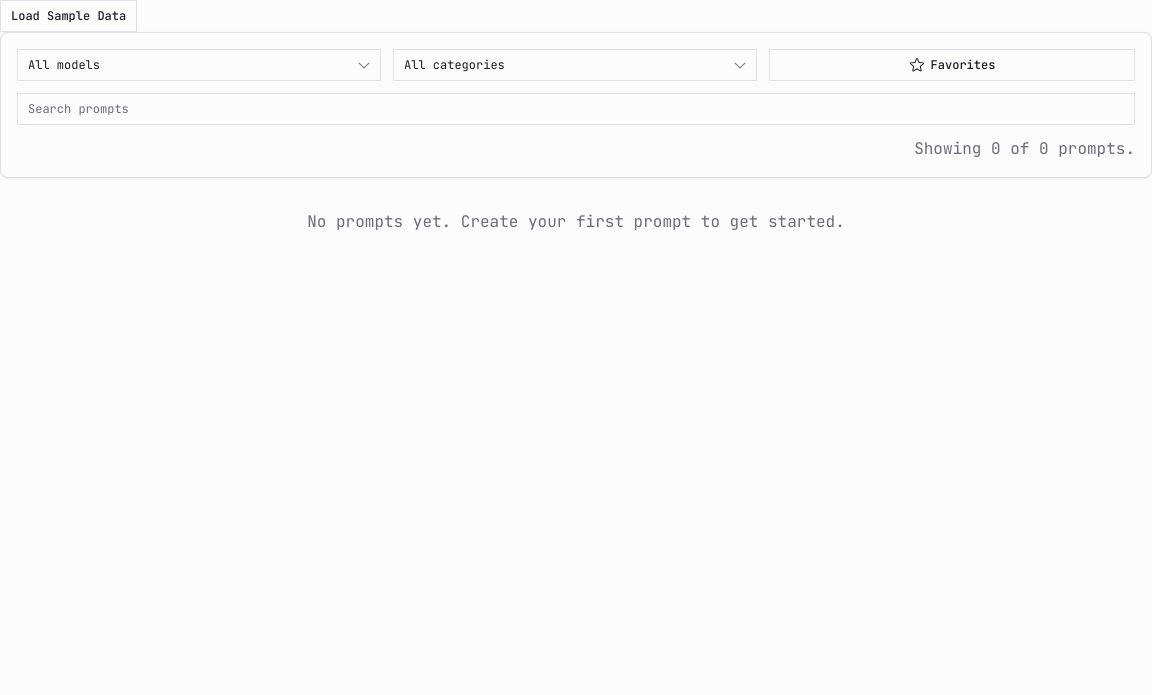
Test: PromptsPage › renders an error banner when copying to the clipboard fails
This screenshot has width=1152, height=695.
Click the button "Load Sample Data". click: (69, 16)
box: [0,0,137,32]
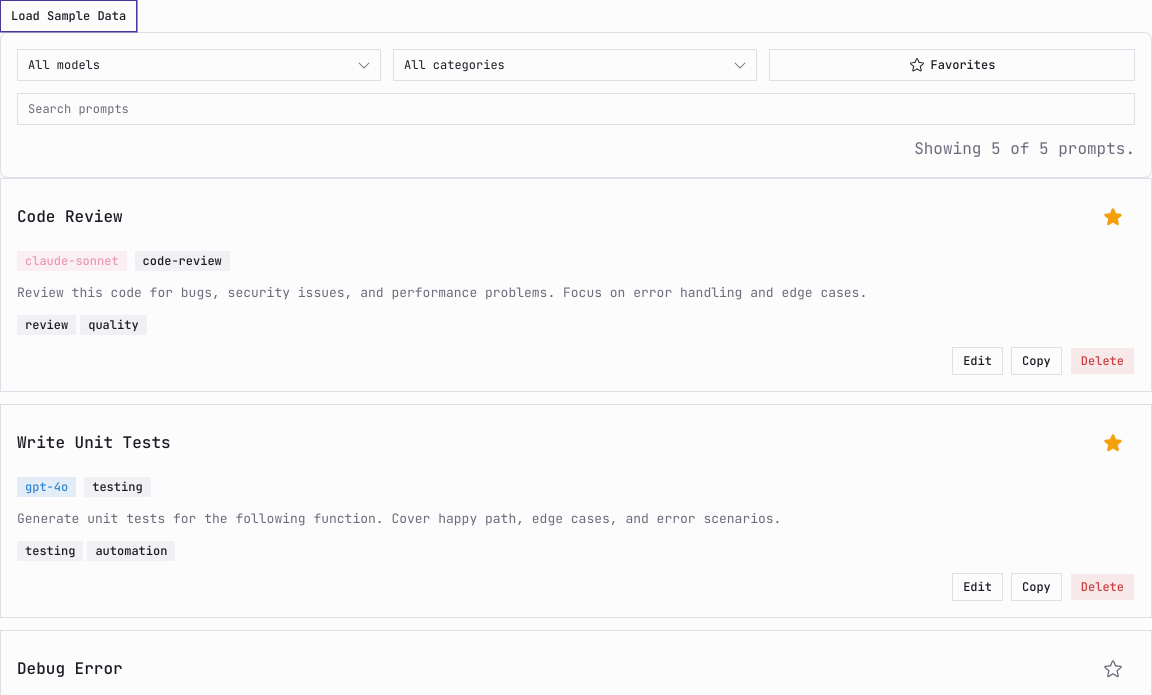
Click the 1st button "Copy". click: (1036, 361)
box: [1011,347,1062,375]
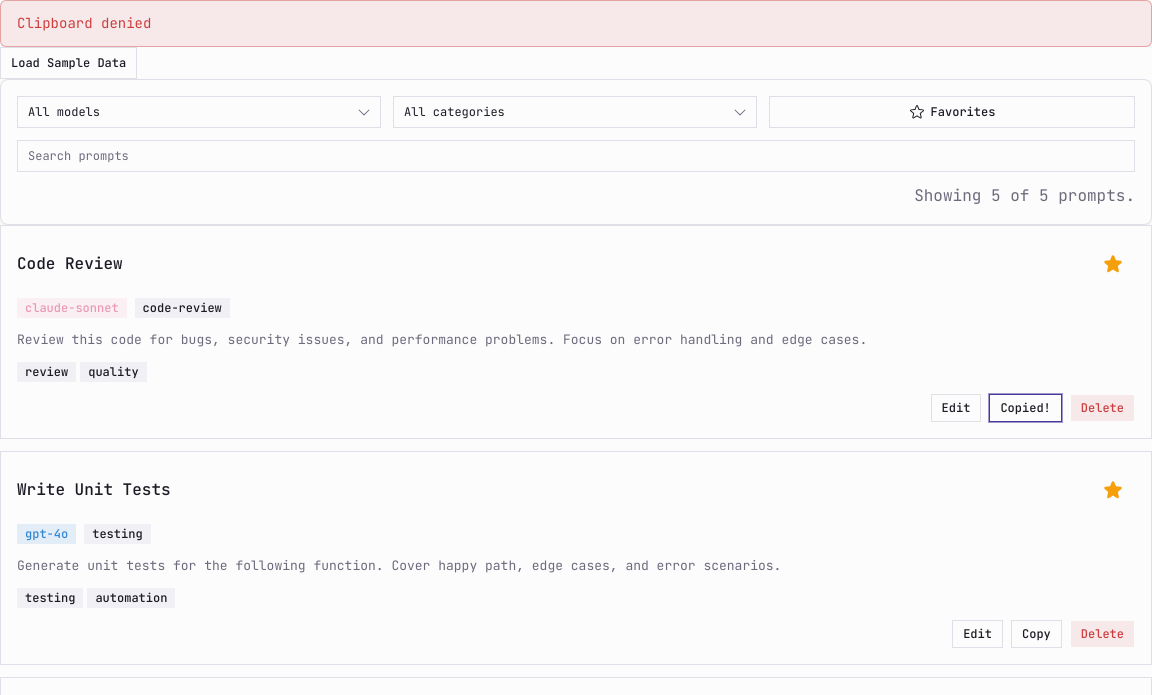
Check: the message reads "Clipboard denied", box [17,14,151,32]
